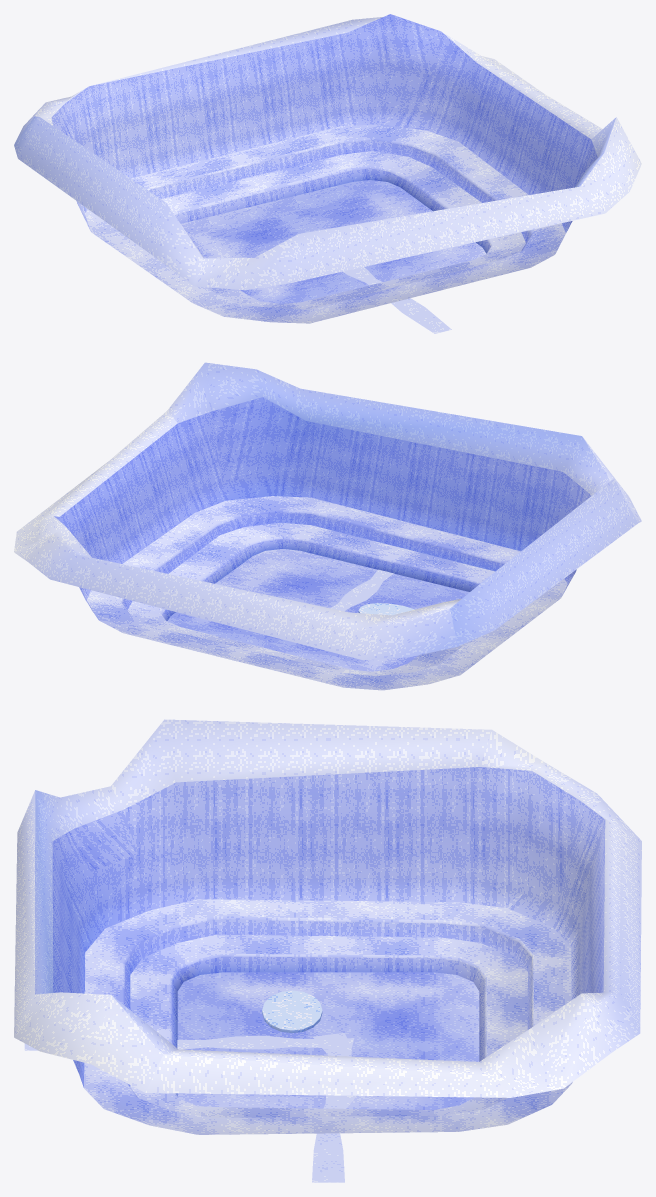
File: terrain.yard.glb
3 views of the same model, one above another, from view 1: azimuth 30°, elevation 25°; view 2: azimuth 150°, elevation 25°; view 3: azimuth 270°, elevation 25° (orthographic). The views are drawn at different scales.
Visible parts, largest first — view 1: kit_shell_terraces, kit_shell_ground, kit_shell_paths; view 2: kit_shell_terraces, kit_shell_ground, kit_shell_paths, kit_pond_0; view 3: kit_shell_terraces, kit_shell_ground, kit_shell_paths, kit_pond_0.
Part boxes in pixels (<box>): kit_shell_terraces: <box>14,14,641,323</box>; kit_shell_ground: <box>181,180,486,303</box>; kit_shell_paths: <box>343,218,451,333</box>; kit_shell_terraces: <box>14,362,641,690</box>; kit_shell_ground: <box>167,549,469,671</box>; kit_shell_paths: <box>215,569,393,611</box>; kit_pond_0: <box>358,603,414,615</box>; kit_shell_terraces: <box>14,719,641,1134</box>; kit_shell_ground: <box>177,972,479,1109</box>; kit_shell_paths: <box>24,1033,356,1182</box>; kit_pond_0: <box>262,990,322,1033</box>.
Bounding box in the file's own units: 33.16 × 9.55 × 29.13.
5 materials, 5 textured.
